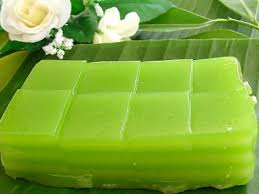kanomchan: (1, 54, 259, 193)
